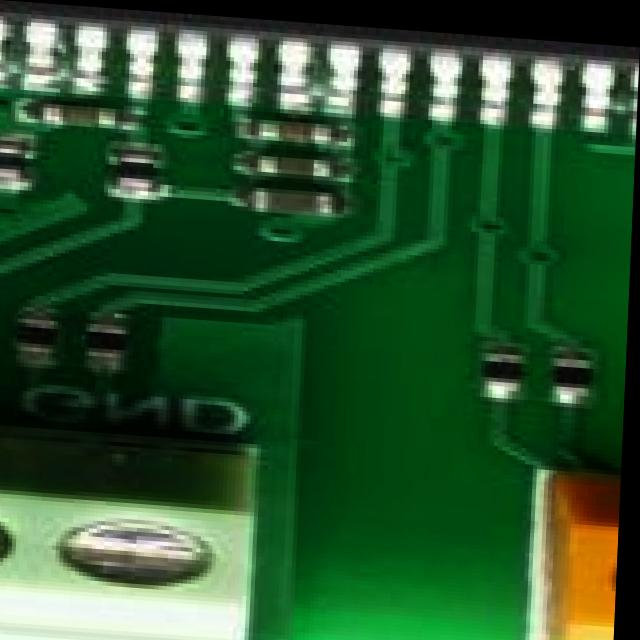IC: (0, 0, 640, 97)
capacitor: (253, 181, 344, 216), (251, 149, 343, 176), (36, 102, 127, 128), (260, 111, 345, 136)
connector: (0, 420, 273, 640), (550, 469, 625, 640)
resistor: (552, 345, 597, 387), (88, 318, 131, 356), (0, 140, 39, 179), (488, 343, 525, 383), (20, 318, 59, 352), (114, 155, 153, 189)
